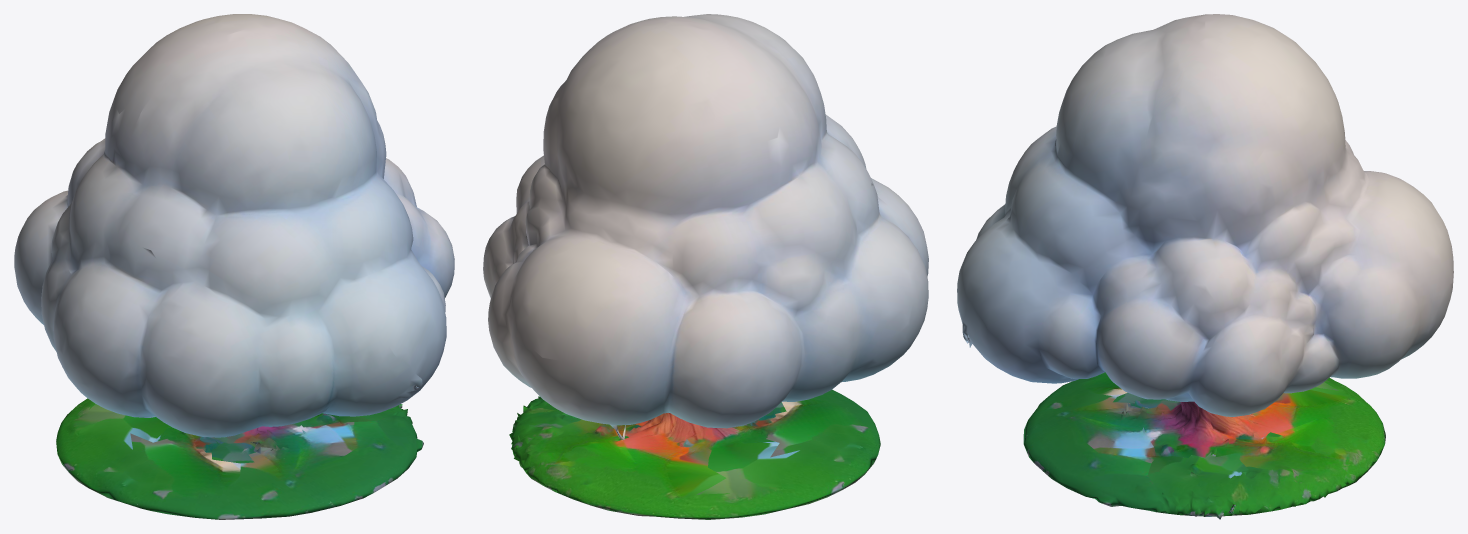
File: arbolito.fbx
3 views of the same model, side by side, from view 1: azimuth 30°, elevation 25°; view 2: azimuth 150°, elevation 25°; view 3: azimuth 270°, elevation 25° (orthographic).
Visible parts, largest first — view 1: tripo_node_4b4e0682; view 2: tripo_node_4b4e0682; view 3: tripo_node_4b4e0682.
Part boxes in pixels (x1,y1,x2,y2): tripo_node_4b4e0682: (14, 14, 454, 519); tripo_node_4b4e0682: (483, 14, 928, 519); tripo_node_4b4e0682: (957, 14, 1453, 519).
Bounding box in the file's own units: 89.58 × 92.58 × 100.
Materials: 1 (1 with a texture image).
